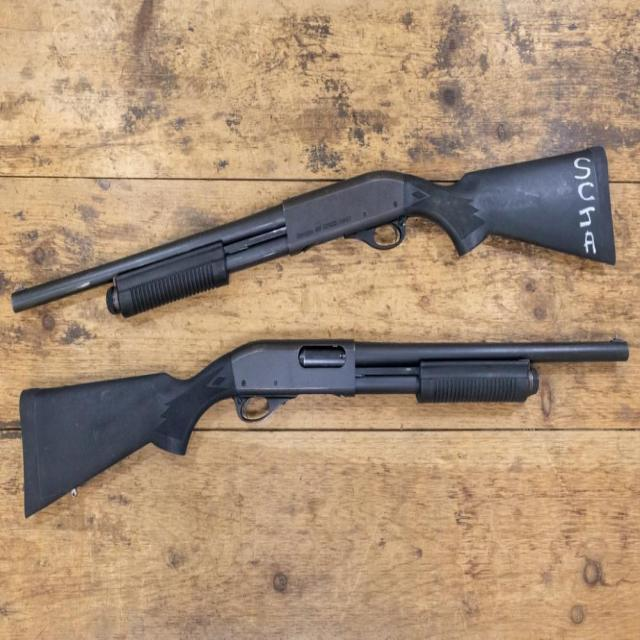shotgun: (4, 328, 638, 540), (13, 136, 625, 322)
